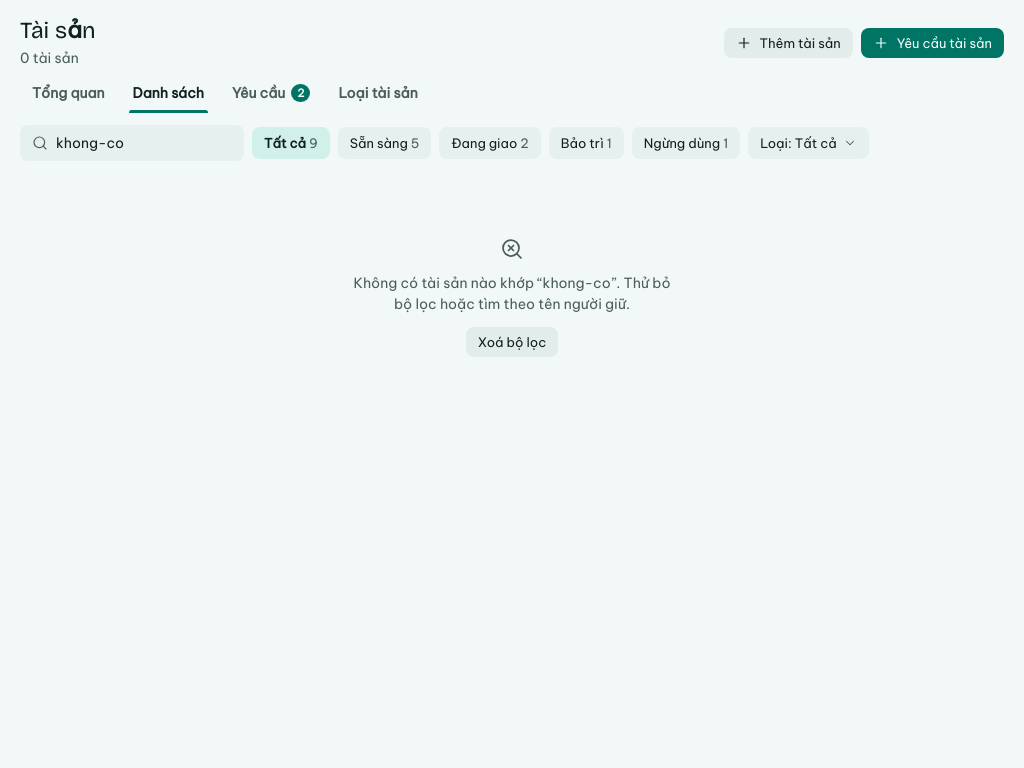
Test case: AssetsScreen: list › says nothing matched, and clears the filters
Expected: the text "Không có tài sản nào khớp “khong-co”" is shown, [353,274,671,313]
Click the button "Xoá bộ lọc" at (512, 342), box [466,327,558,357]
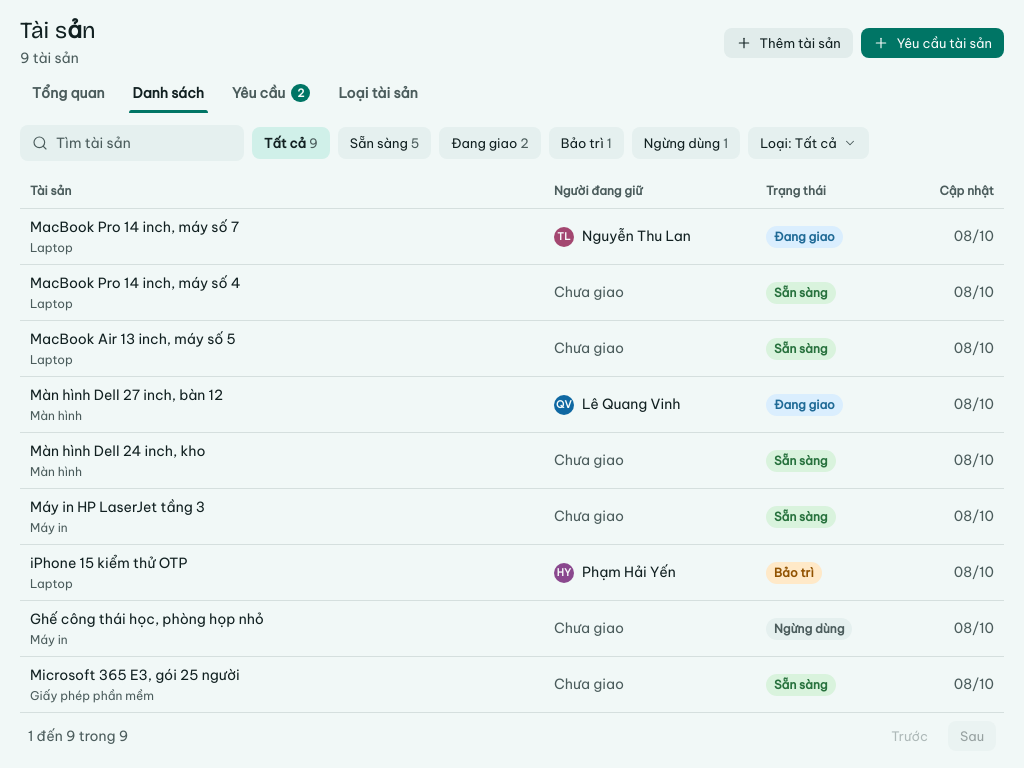
Expected: the button "MacBook Pro 14 inch, máy số 7" is shown, [30,217,239,238]
